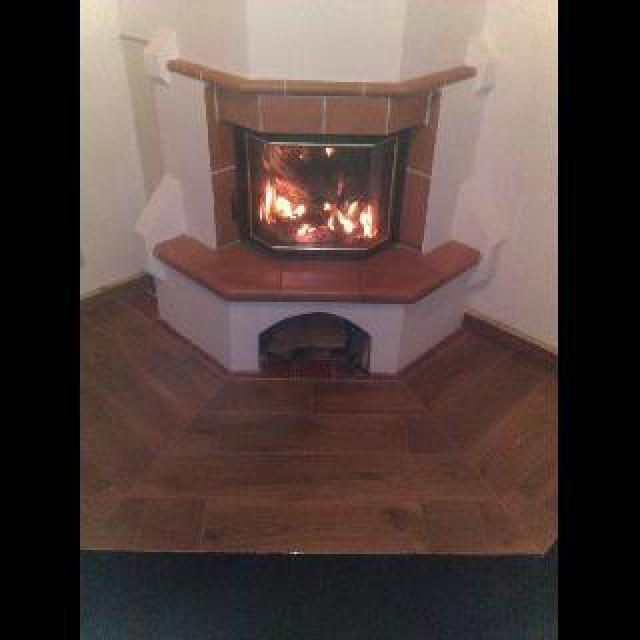Fire: (252, 130, 390, 248)
